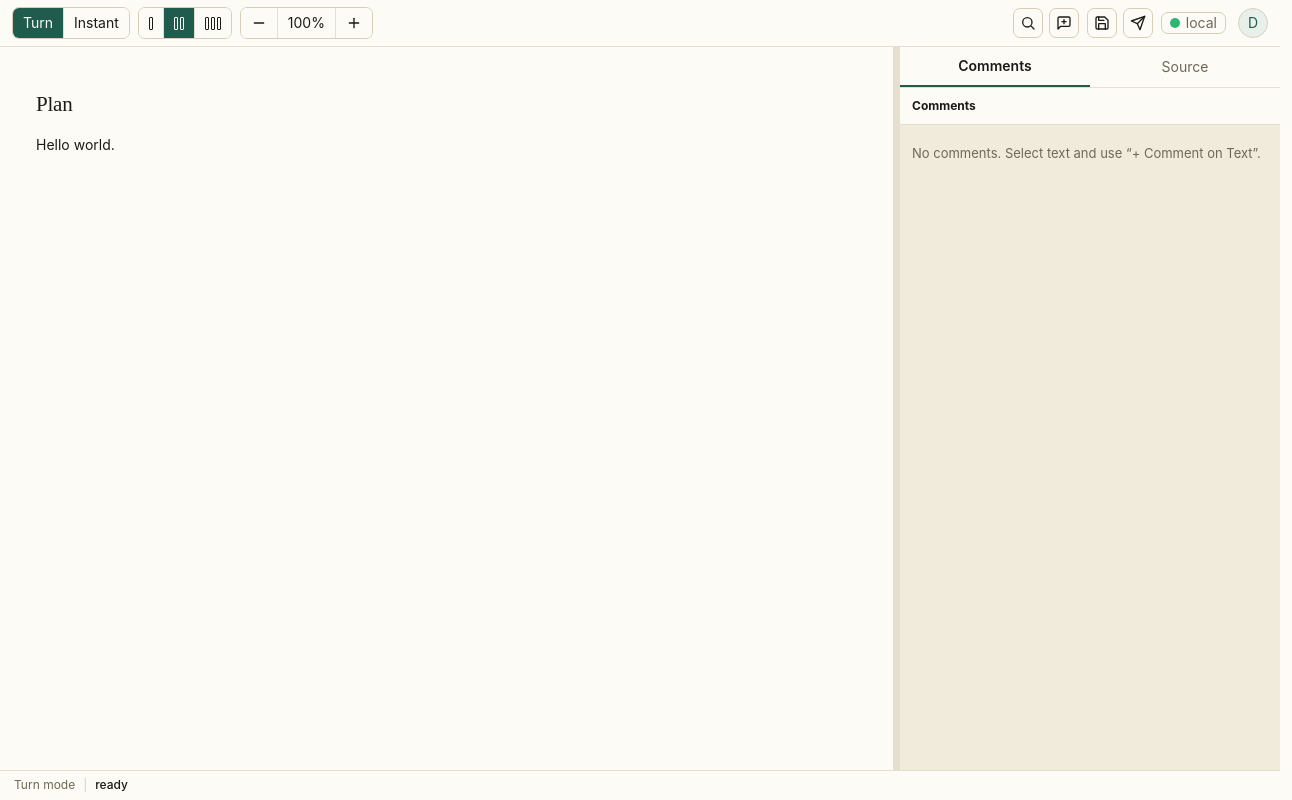
Scenario: agent-presence gating of Instant + Finish-turn › keeps agent-dependent controls enabled while the agent works with no presence peer
The width and height of the screenshot is (1292, 800).
Expected: the button "Instant" is enabled, left=64, top=8, right=129, bottom=38
Click the button named "finish turn" at coordinates (1138, 23), box left=1123, top=8, right=1153, bottom=38
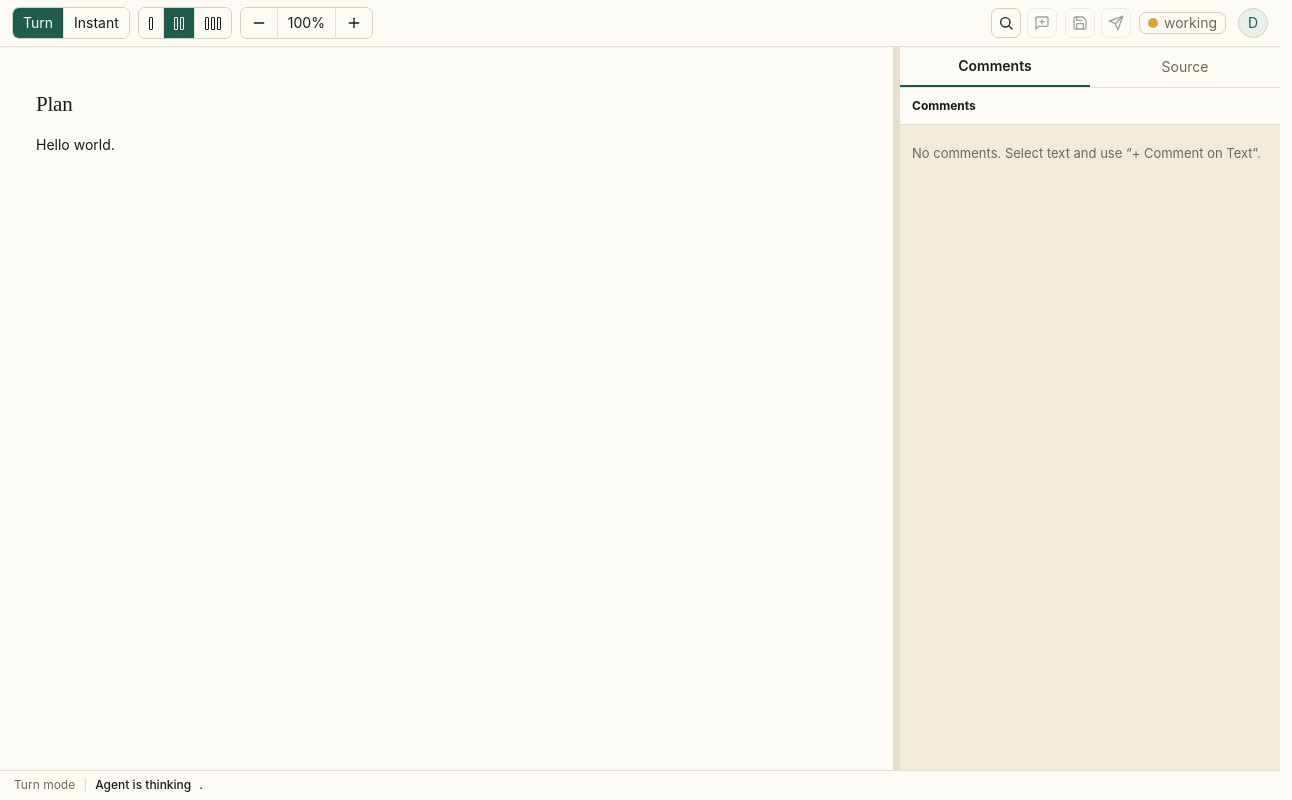
Expected: the button "Instant" is enabled, left=64, top=8, right=129, bottom=38
Expected: the text "Agent is thinking" is shown, left=95, top=777, right=191, bottom=792
Expected: the button with aria-label "agent connection" reads "working", left=1139, top=12, right=1226, bottom=34
